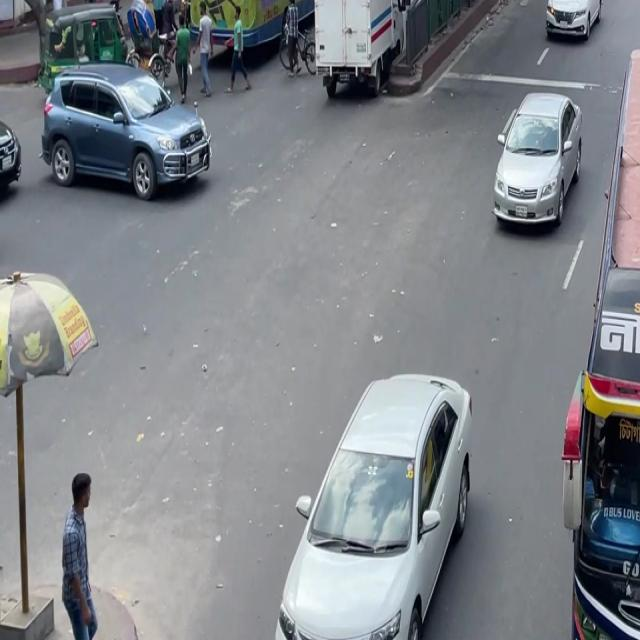car: (269, 350, 490, 636), (38, 53, 217, 218), (486, 86, 589, 246), (537, 0, 608, 51)
van: (311, 0, 409, 109)
